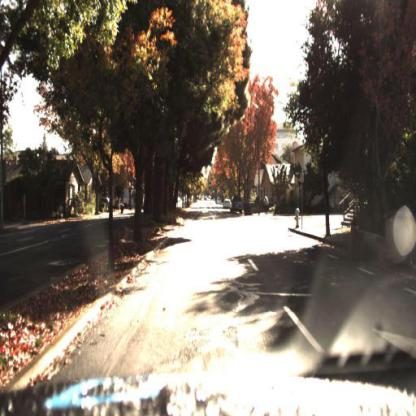car: (230, 199, 245, 220)
pedestrian: (262, 192, 271, 217), (263, 191, 270, 216)
